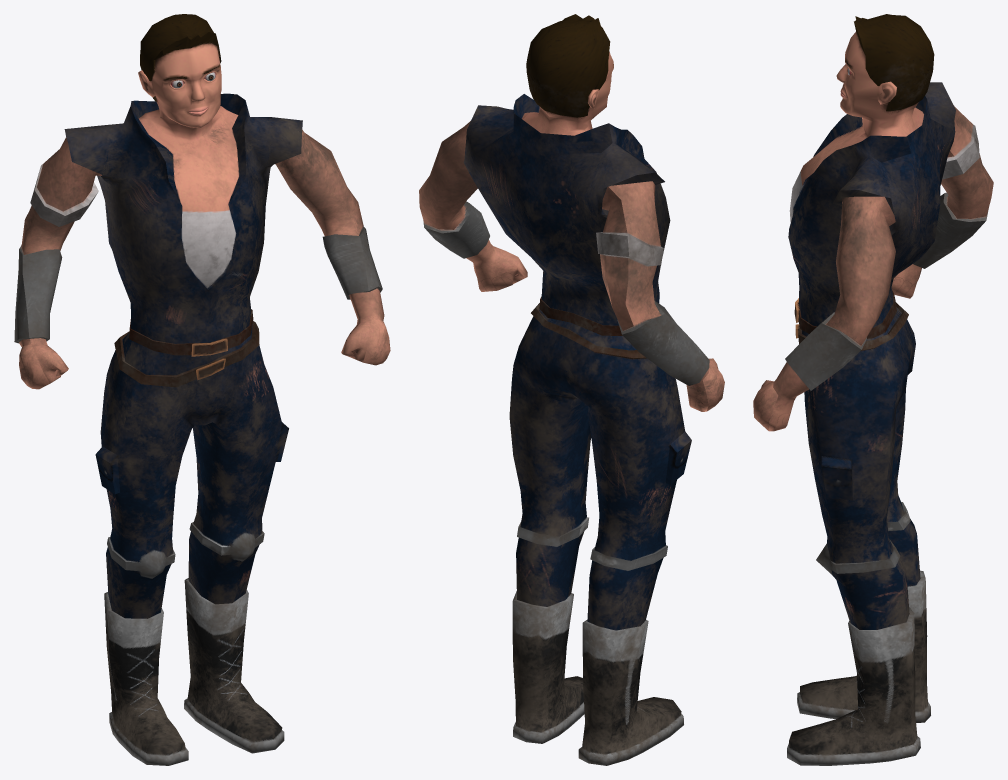
File: Anim_ataque_d1_jugador.0013.obj
The picture shows the model from 3 angles, left to right: view 1: azimuth 30°, elevation 25°; view 2: azimuth 150°, elevation 25°; view 3: azimuth 270°, elevation 25°; orthographic projection.
Visible parts, largest first — view 1: polySurface1; view 2: polySurface1; view 3: polySurface1.
Part boxes in pixels (x1,y1,x2,y2): polySurface1: (14, 14, 390, 765); polySurface1: (419, 14, 724, 765); polySurface1: (753, 14, 993, 765).
Bounding box in the file's own units: 4.53 × 9.6 × 2.91.
